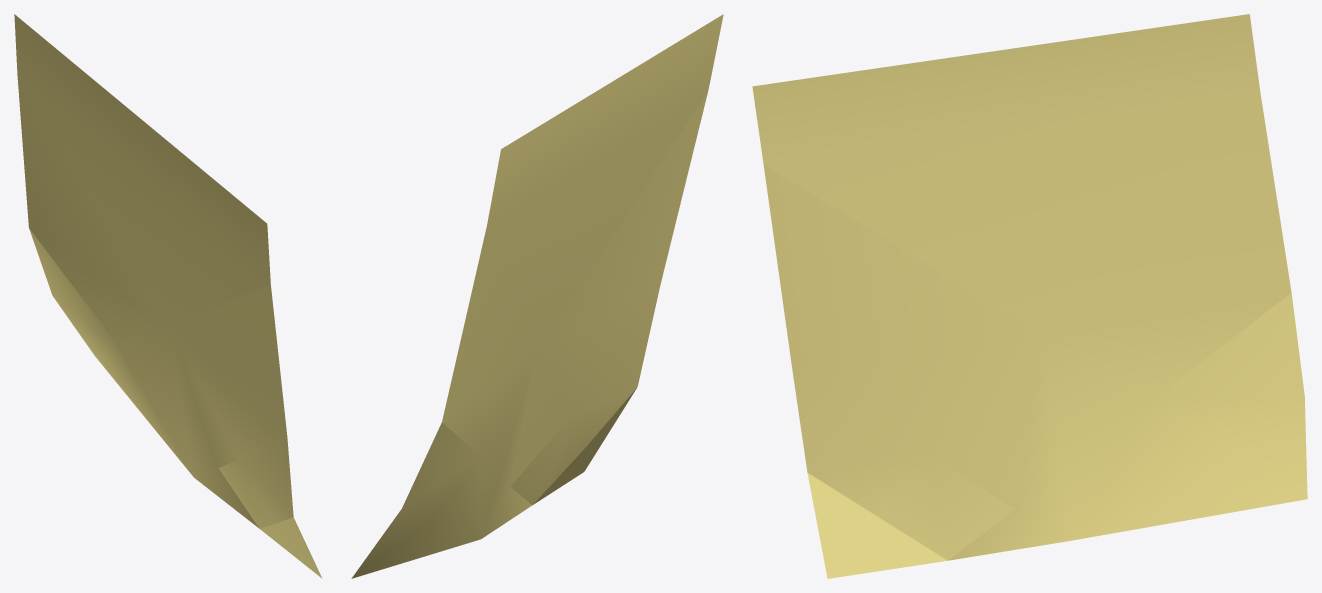
Rendered from PostItNotes_3.fbx.
3 views of the same model, side by side, from view 1: azimuth 30°, elevation 25°; view 2: azimuth 150°, elevation 25°; view 3: azimuth 270°, elevation 25° (orthographic). The views are drawn at different scales.
Parts seen in each view (by area): view 1: PostItNotes_3; view 2: PostItNotes_3; view 3: PostItNotes_3.
Boxes of the visible parts, box(x1,y1,x2,y2) form: PostItNotes_3: box(14, 14, 322, 578); PostItNotes_3: box(351, 14, 723, 578); PostItNotes_3: box(752, 14, 1307, 578).
Size of the model in its own units: 3.21 by 11.85 by 11.89.
